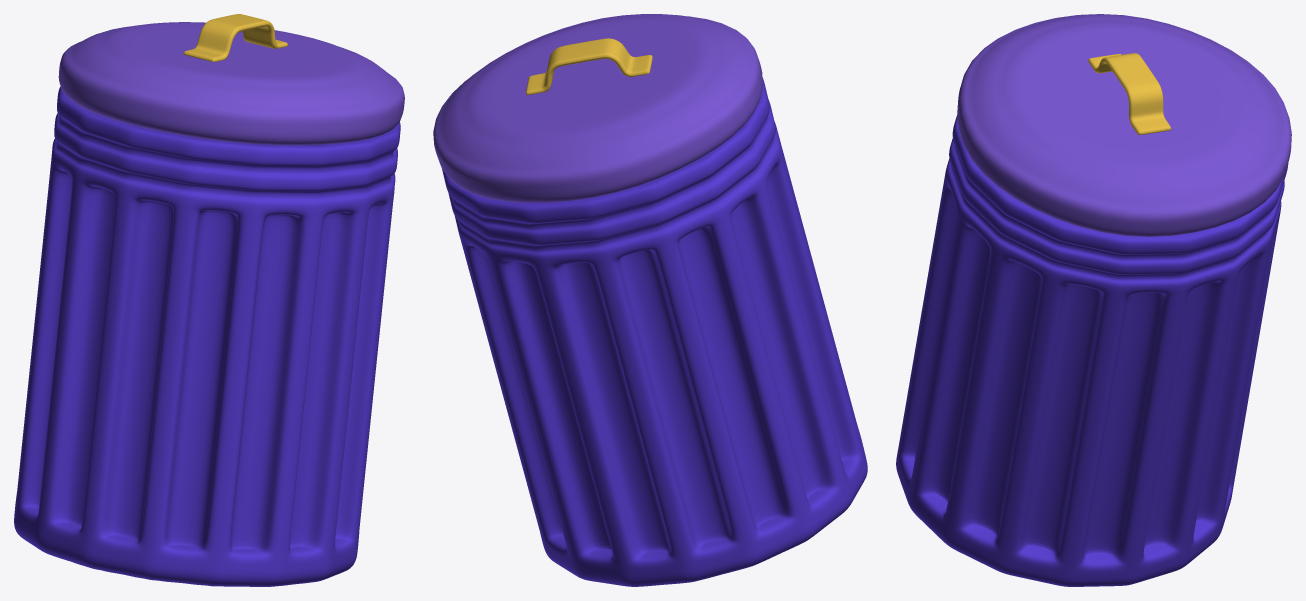
File: trash-bin-3d-icon-1430365444563.glb
3 renders of one model, left to right at view 1: azimuth 30°, elevation 25°; view 2: azimuth 150°, elevation 25°; view 3: azimuth 270°, elevation 25°, orthographic. The views are drawn at different scales.
Visible parts, largest first — view 1: Trash, Lid, Handle; view 2: Trash, Lid, Handle; view 3: Trash, Lid, Handle.
Boxes of the visible parts, x1=… form: Trash: x1=14, y1=86, x2=400, y2=586; Lid: x1=58, y1=22, x2=404, y2=145; Handle: x1=183, y1=14, x2=287, y2=61; Trash: x1=442, y1=77, x2=867, y2=586; Lid: x1=433, y1=14, x2=762, y2=202; Handle: x1=526, y1=38, x2=652, y2=94; Trash: x1=896, y1=115, x2=1288, y2=586; Lid: x1=957, y1=14, x2=1291, y2=236; Handle: x1=1088, y1=53, x2=1171, y2=134.
Size of the model in its own units: 1.33 by 1.75 by 1.25.
